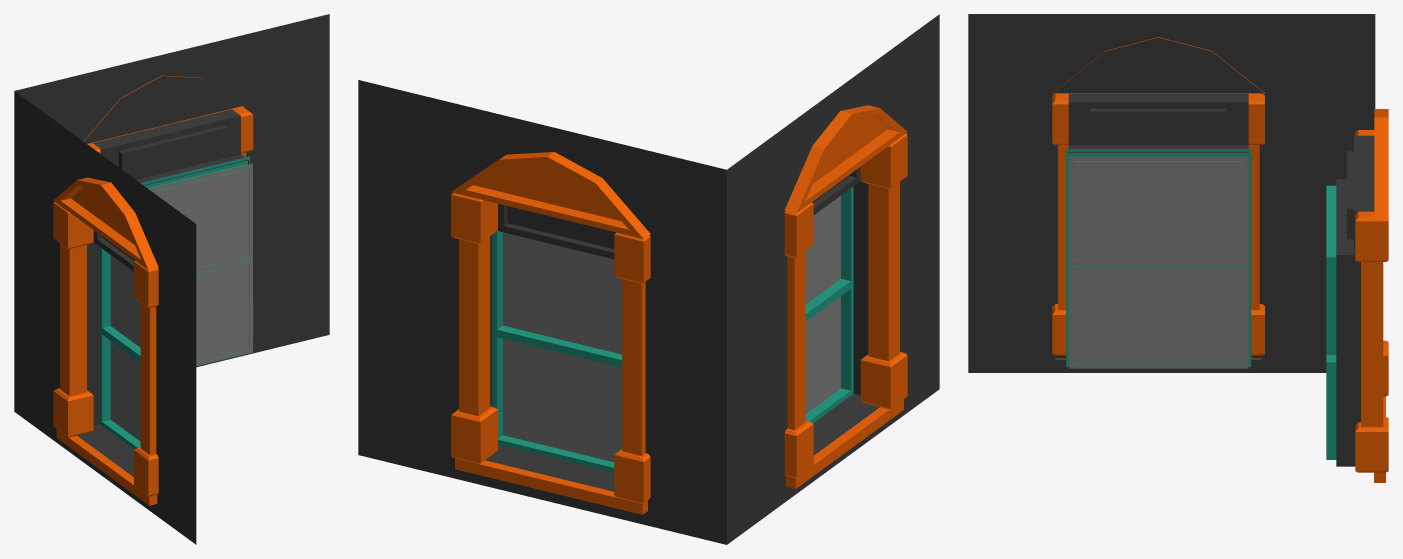
The model's file is SM_M_Corner_Build_03.fbx.
3 renders of one model, left to right at view 1: azimuth 30°, elevation 25°; view 2: azimuth 150°, elevation 25°; view 3: azimuth 270°, elevation 25°, orthographic. The views are drawn at different scales.
Visible parts, largest first — view 1: SM_M_Corner_Build_03, Box206, Box207, Box208, Box187; view 2: SM_M_Corner_Build_03, Box187, Box207, Box188, Box206, Box189, Box208; view 3: SM_M_Corner_Build_03, Box187, Box206, Box207.
Boxes of the visible parts, x1=… form: SM_M_Corner_Build_03: x1=14, y1=14, x2=329, y2=544; Box206: x1=53, y1=202, x2=93, y2=437; Box207: x1=134, y1=260, x2=158, y2=496; Box208: x1=56, y1=429, x2=157, y2=505; Box187: x1=232, y1=106, x2=253, y2=337; SM_M_Corner_Build_03: x1=358, y1=14, x2=939, y2=544; Box187: x1=451, y1=193, x2=497, y2=464; Box207: x1=860, y1=133, x2=907, y2=409; Box188: x1=614, y1=232, x2=650, y2=503; Box206: x1=784, y1=202, x2=813, y2=478; Box189: x1=455, y1=458, x2=647, y2=514; Box208: x1=786, y1=399, x2=903, y2=488; SM_M_Corner_Build_03: x1=968, y1=14, x2=1388, y2=466; Box187: x1=1355, y1=211, x2=1388, y2=472; Box206: x1=1248, y1=93, x2=1264, y2=355; Box207: x1=1052, y1=93, x2=1068, y2=355.
Bounding box in the file's own units: 553 × 521 × 553.
